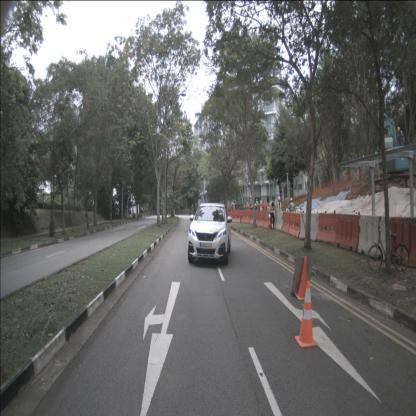movable_object-barrier: (358, 214, 390, 260), (389, 214, 415, 269), (335, 214, 360, 253), (317, 212, 337, 245), (299, 212, 319, 242), (287, 211, 301, 238), (272, 209, 283, 231), (282, 211, 292, 234), (263, 210, 272, 228), (232, 209, 241, 224), (257, 211, 265, 227), (241, 210, 250, 224), (253, 211, 259, 227), (248, 210, 254, 224)
movable_object-trafficcone: (295, 281, 318, 348), (296, 256, 310, 302)
vehicle-bicycle: (367, 216, 410, 272)
vehicle-car: (187, 203, 231, 266)
